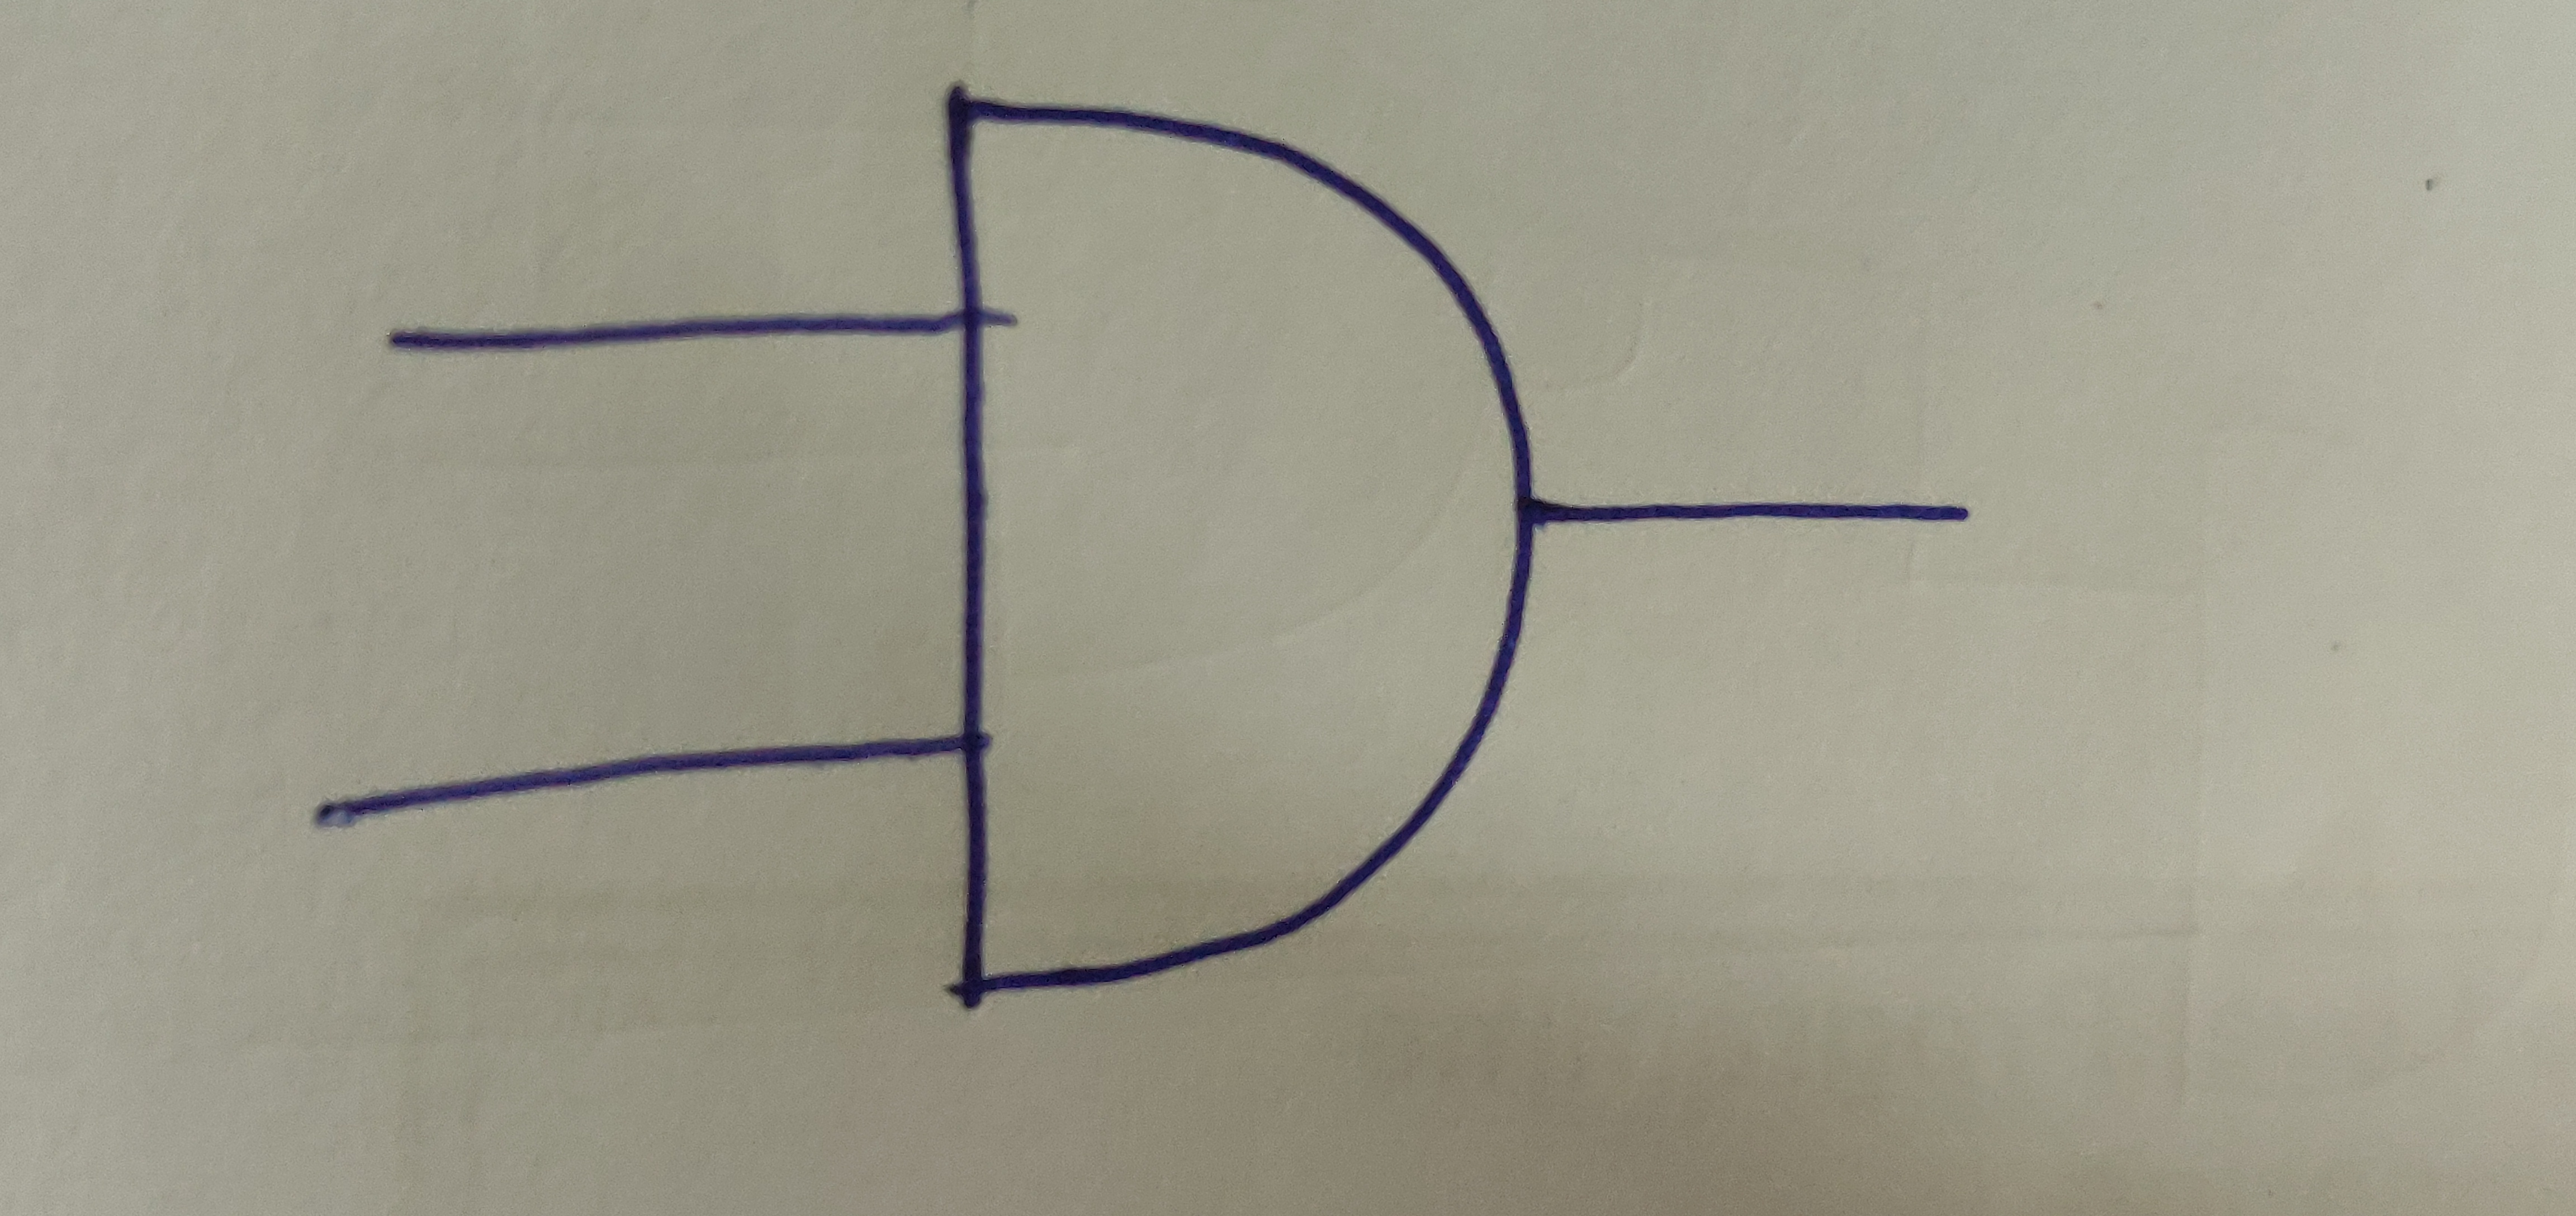and: (941, 87, 1541, 994)
